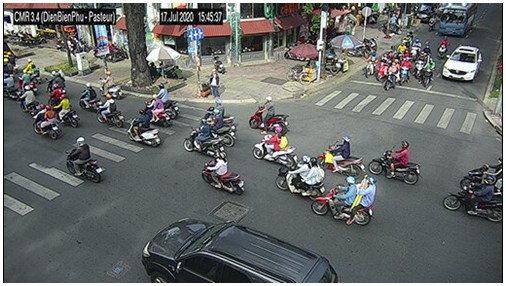xe_buyt: (439, 3, 476, 36)
xe_hoi: (142, 217, 339, 283), (441, 45, 483, 82)
xe_may: (312, 175, 375, 226), (442, 174, 501, 221), (369, 141, 421, 184), (276, 156, 326, 200), (316, 136, 364, 178), (200, 154, 246, 196), (253, 125, 297, 167), (66, 137, 103, 182), (182, 118, 224, 155), (250, 96, 289, 132), (128, 109, 161, 147), (461, 158, 502, 188), (98, 93, 125, 129), (33, 103, 59, 140), (154, 81, 179, 119), (142, 95, 171, 127), (202, 99, 236, 126), (212, 110, 236, 146), (55, 95, 79, 130), (78, 83, 101, 112), (100, 70, 122, 100), (19, 85, 39, 115), (25, 59, 41, 86), (48, 83, 65, 108), (423, 56, 435, 88), (376, 52, 388, 84), (364, 51, 378, 78), (5, 75, 18, 101), (385, 62, 397, 90), (400, 57, 412, 85), (48, 71, 64, 91), (415, 51, 424, 79), (438, 35, 448, 59), (21, 70, 31, 94)
